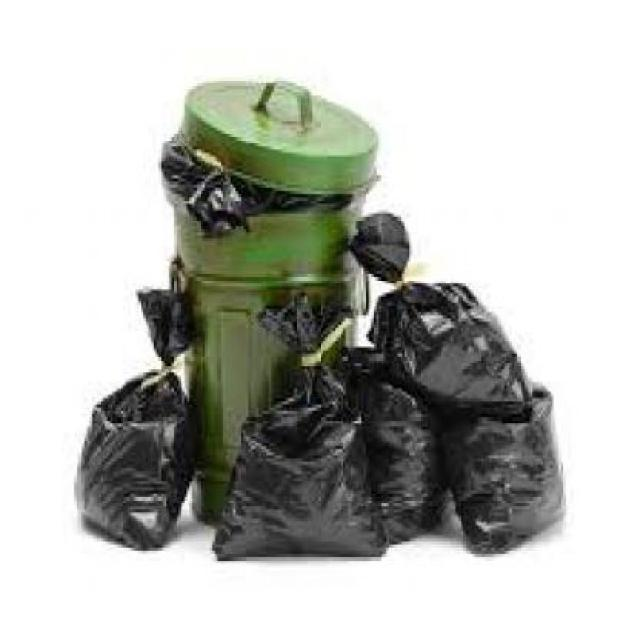garbage: (74, 283, 556, 557)
